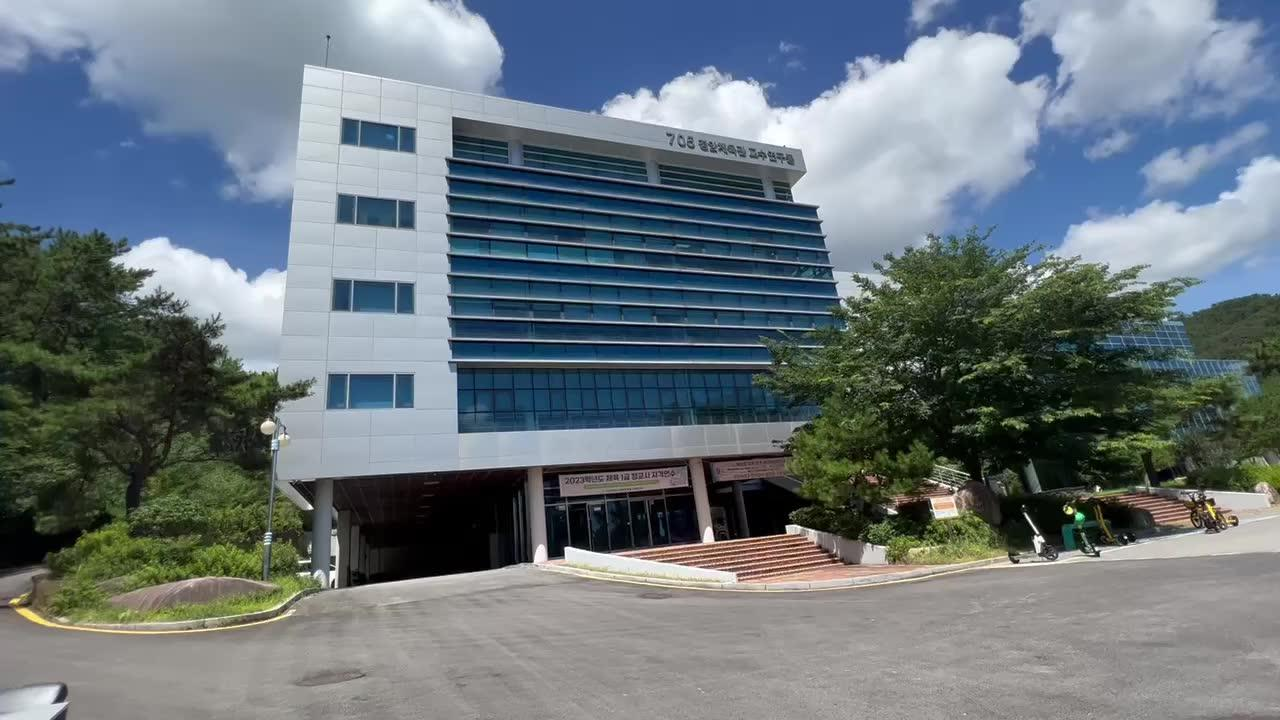building: (263, 74, 787, 503)
